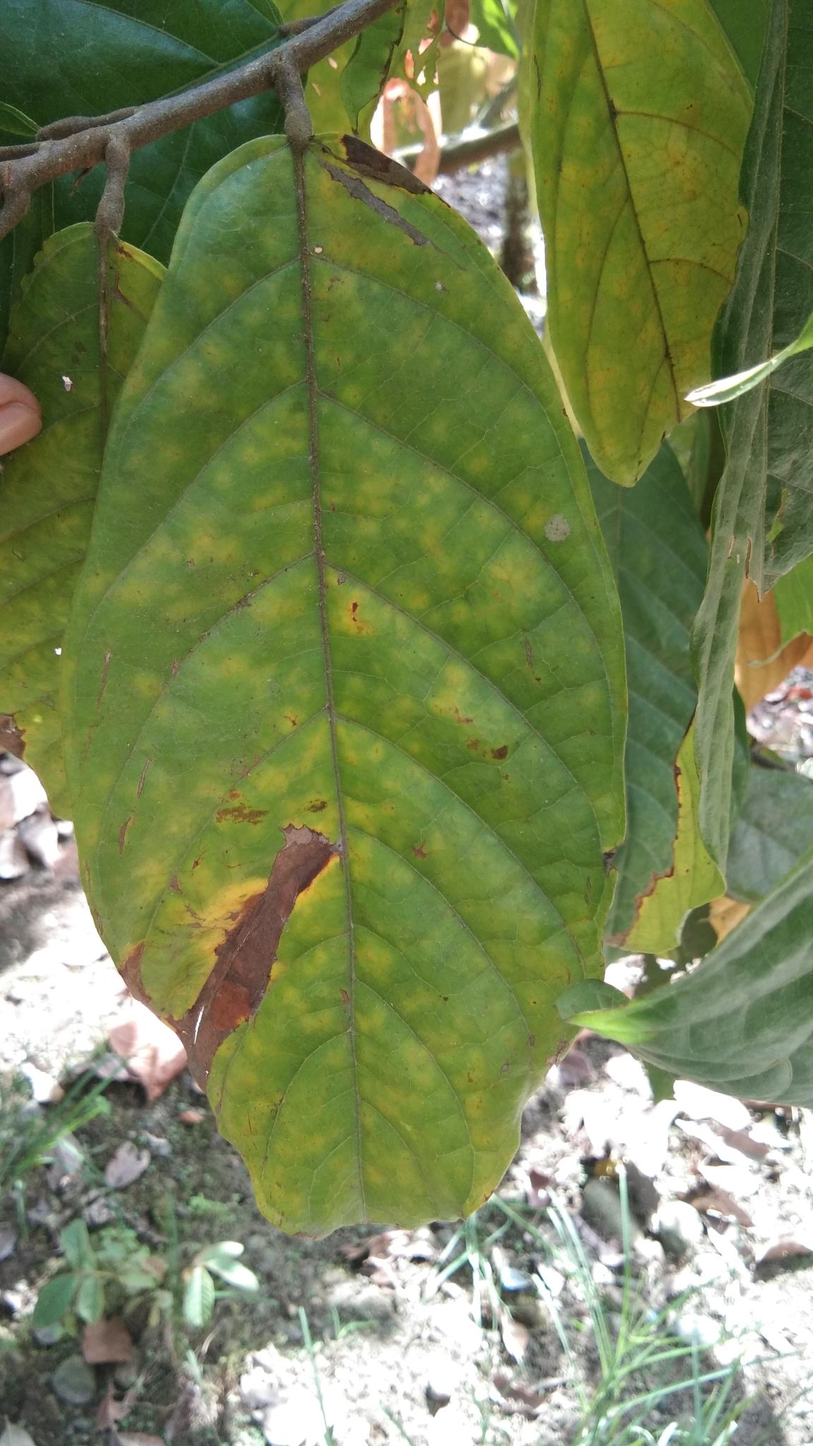Fosforo: (48, 127, 637, 1237)
